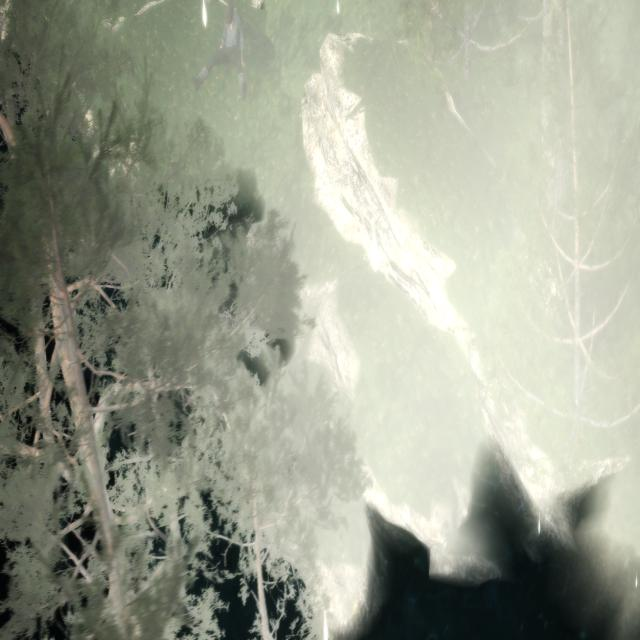Human: (190, 8, 250, 105)
